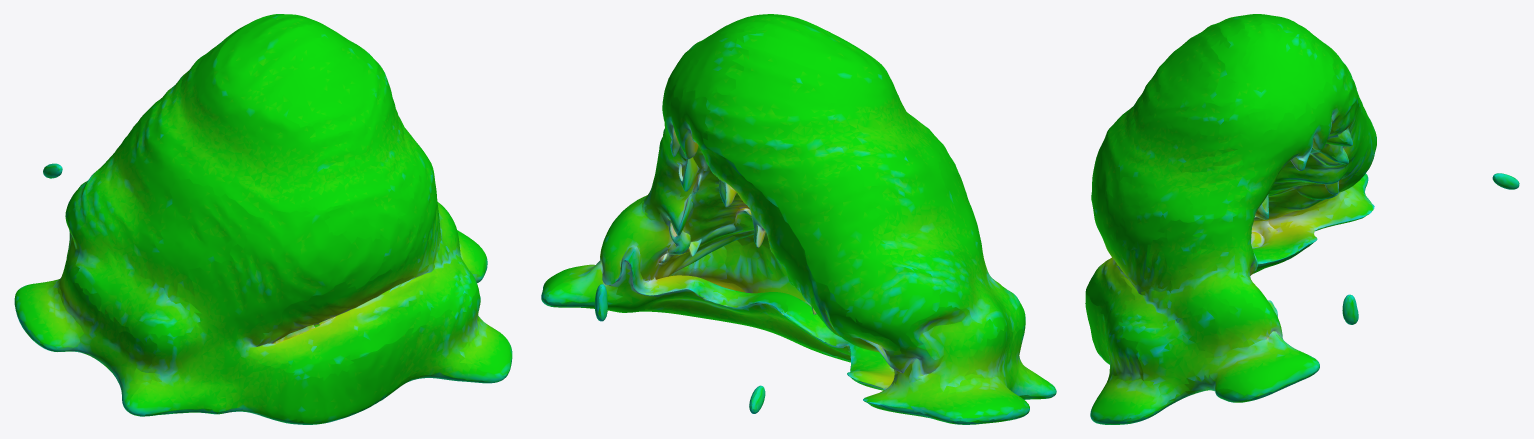
File: Slime_outline.fbx
The picture shows the model from 3 angles, left to right: view 1: azimuth 30°, elevation 25°; view 2: azimuth 150°, elevation 25°; view 3: azimuth 270°, elevation 25°; orthographic projection. The views are drawn at different scales.
Visible parts, largest first — view 1: Slime_outline; view 2: Slime_outline; view 3: Slime_outline.
Part boxes in pixels (x1,y1,x2,y2): Slime_outline: (14,14,512,424); Slime_outline: (541,14,1056,424); Slime_outline: (1085,14,1519,424).
Bounding box in the file's own units: 150 × 110 × 129.
